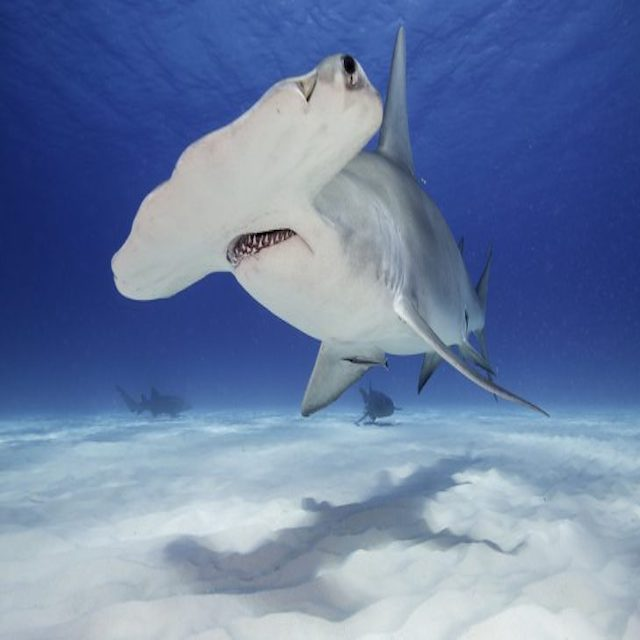hammerhead: (93, 41, 426, 320)
